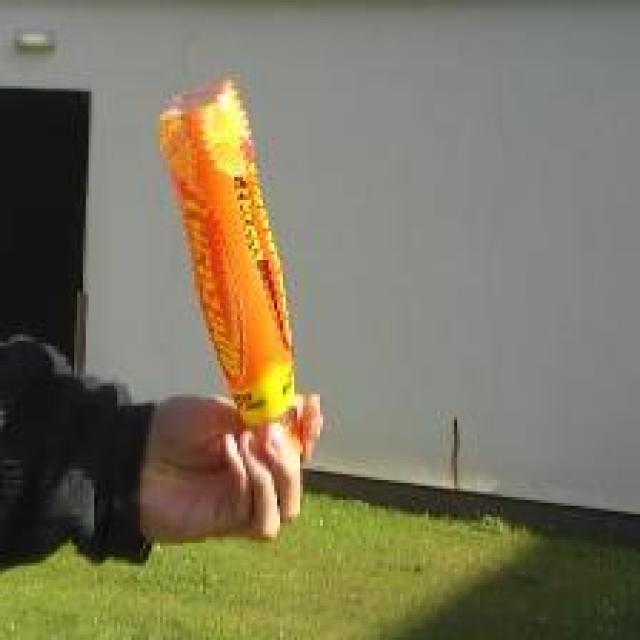other: (130, 66, 364, 446)
